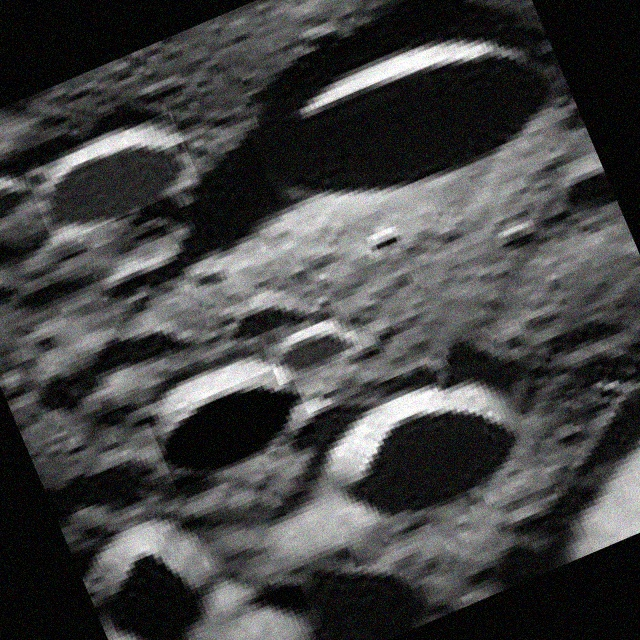crater: (241, 0, 571, 241), (316, 357, 534, 542), (70, 494, 252, 640), (23, 110, 201, 245), (148, 362, 315, 490), (143, 581, 331, 640), (263, 311, 363, 385), (0, 169, 40, 250)
